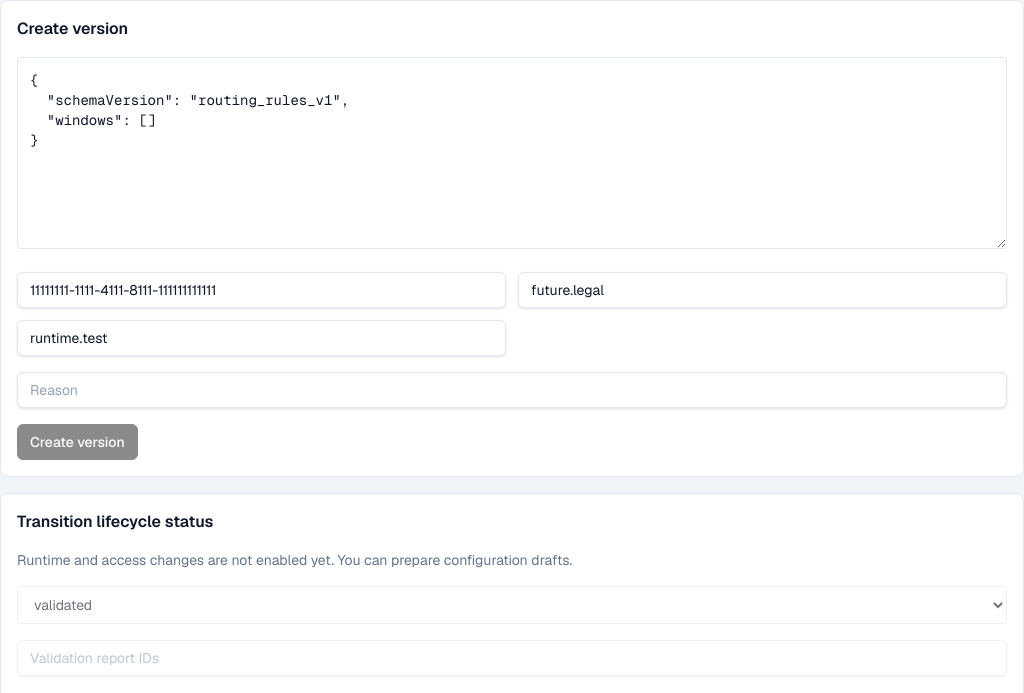
Test case: AdminRecordActions › saves a policy draft without report IDs and displays its audited result
The image size is (1024, 693).
Type "prepare now" into the field with placeholder "Reason" at (512, 390), box [17,372,1007,408]
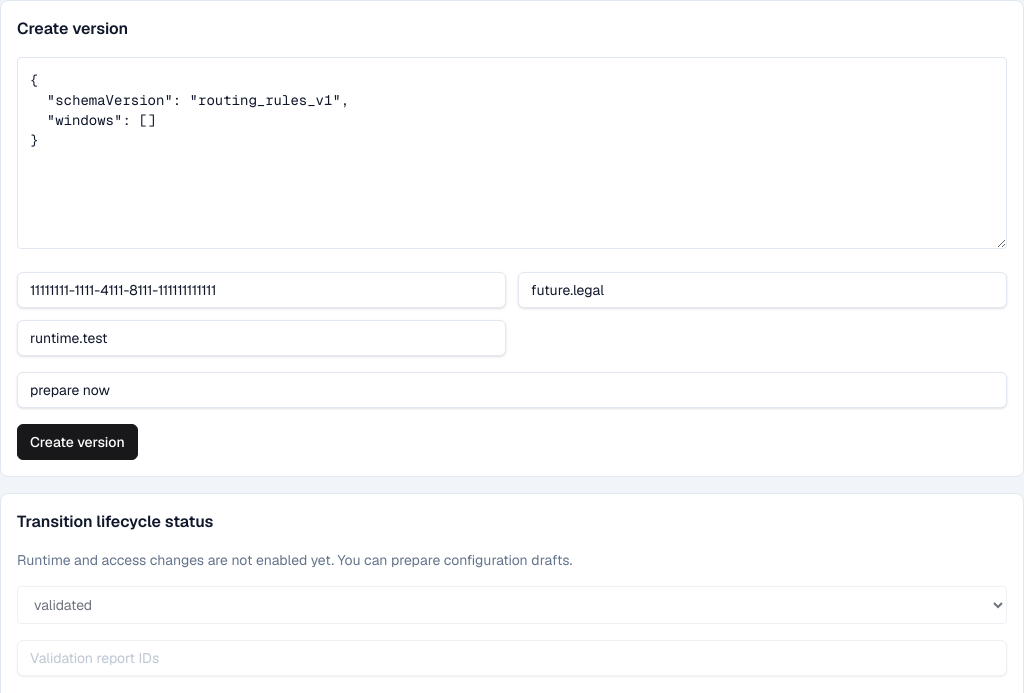
Click the button "Create version" at (77, 442), box [17,424,138,460]
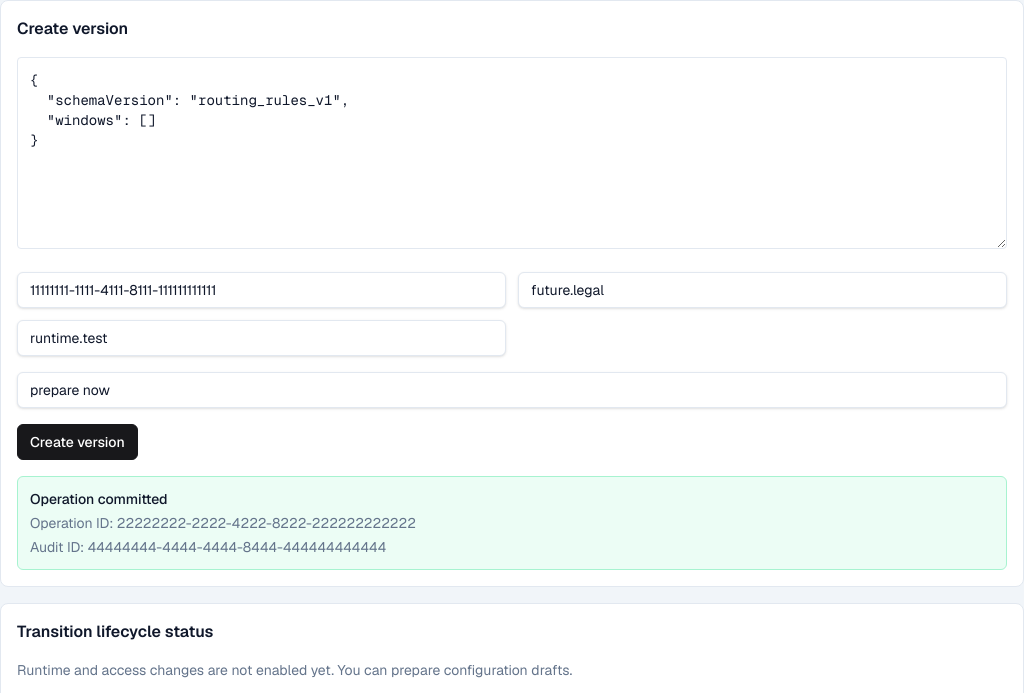
Expected: the text "Operation committed" is shown, [30,490,168,508]
Expected: the text "Audit ID: 44444444-4444-4444-8444-444444444444" is shown, [30,538,386,556]
